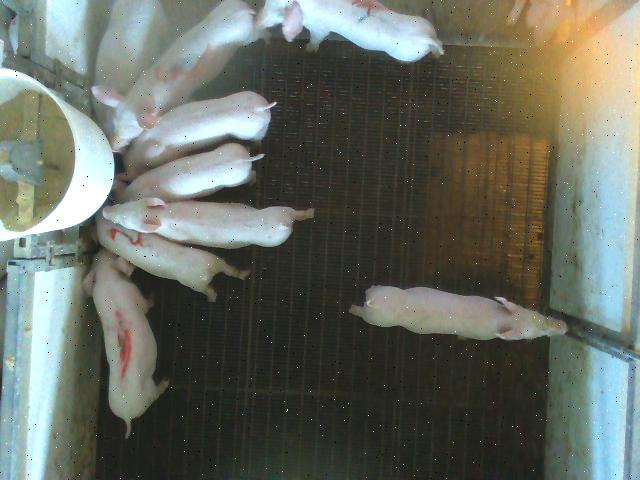pig-1: (82, 248, 169, 438)
pig-3: (92, 2, 264, 151)
pig-5: (95, 212, 250, 302)
